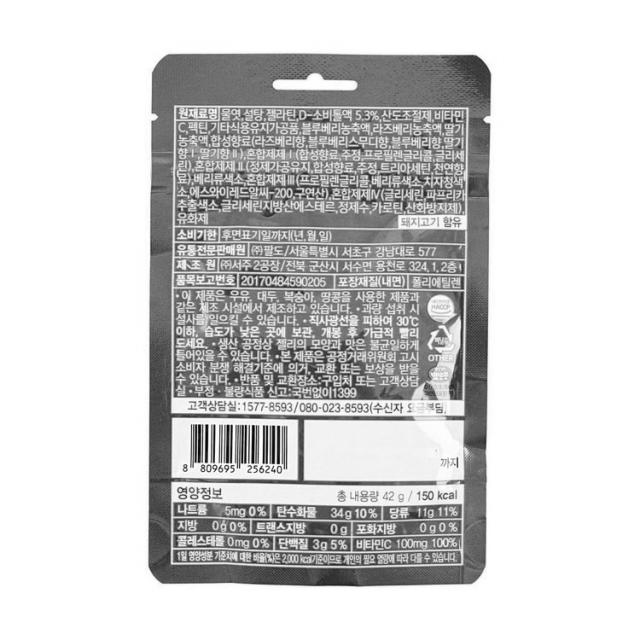Nutrition Label: (168, 481, 470, 578)
